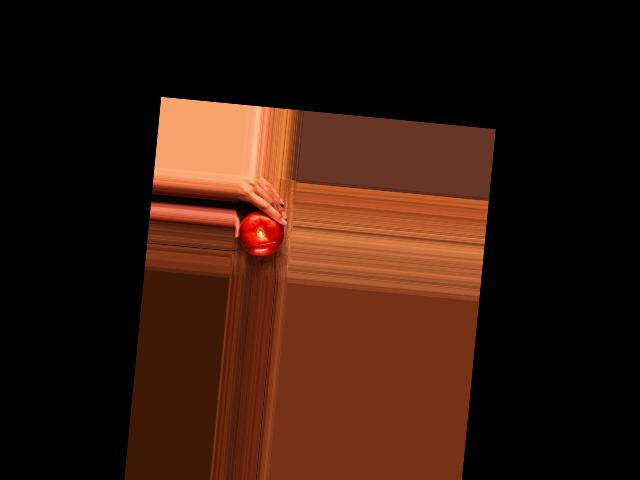tomato: (237, 208, 285, 257)
